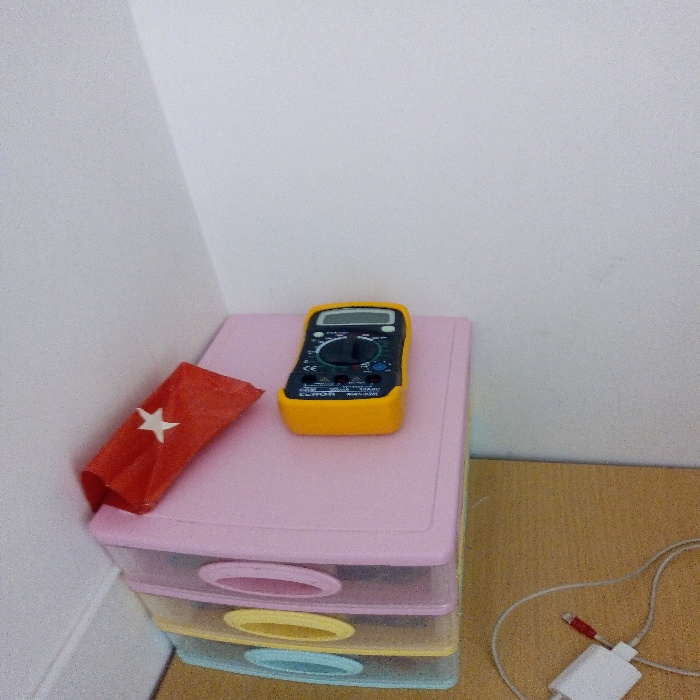multimetre: (273, 282, 413, 439)
